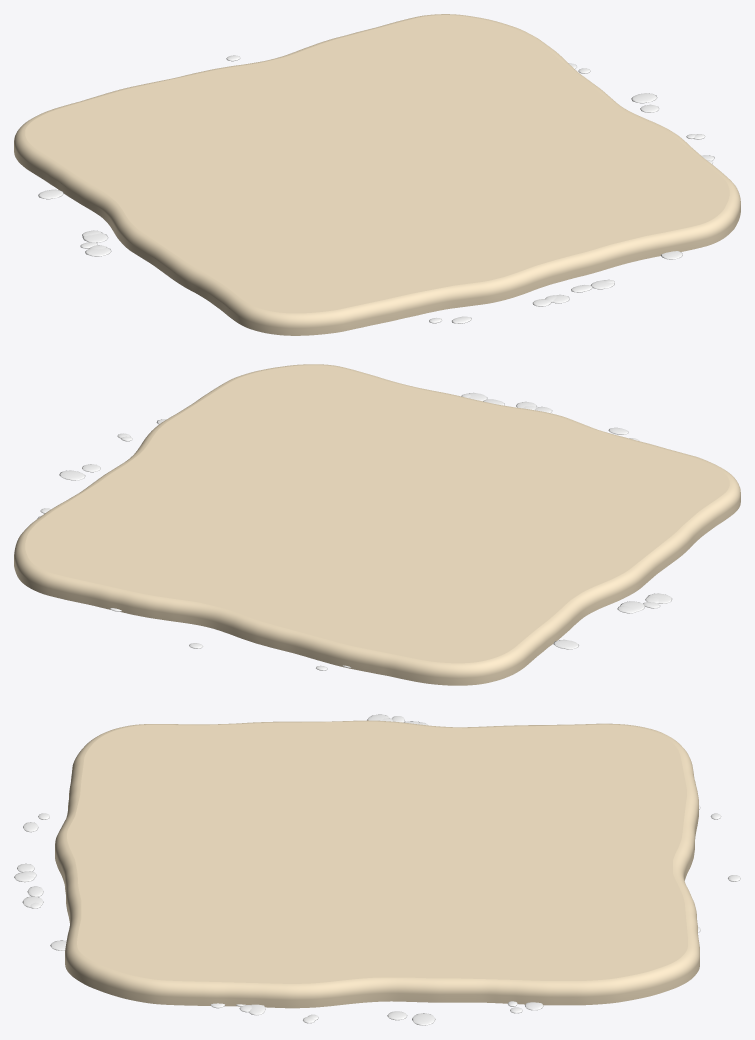
Rendered from DoughSheet.obj.
3 renders of one model, top to bottom at view 1: azimuth 30°, elevation 25°; view 2: azimuth 150°, elevation 25°; view 3: azimuth 270°, elevation 25°, orthographic. The views are drawn at different scales.
Parts seen in each view (by area): view 1: Dough, Flour; view 2: Dough, Flour; view 3: Dough, Flour.
Part boxes in pixels (<box>): Dough: <box>14,14,740,335</box>; Flour: <box>38,55,714,323</box>; Dough: <box>14,364,740,685</box>; Flour: <box>37,392,672,670</box>; Dough: <box>55,720,699,1008</box>; Flour: <box>14,714,740,1025</box>.
Size of the model in its own units: 14.65 by 0.42 by 14.45.
